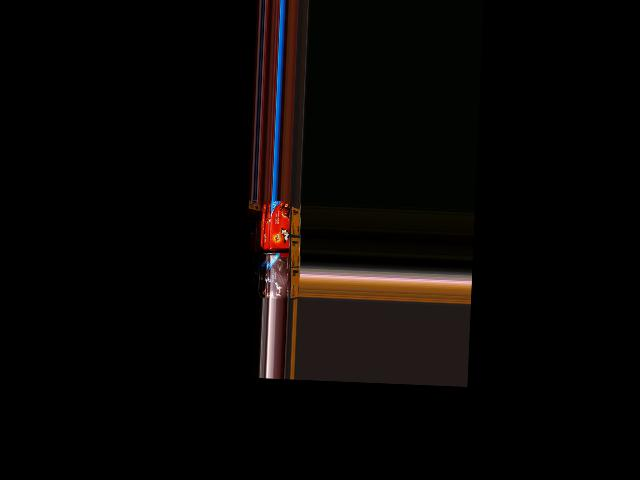chocolate: (265, 256, 294, 300)
